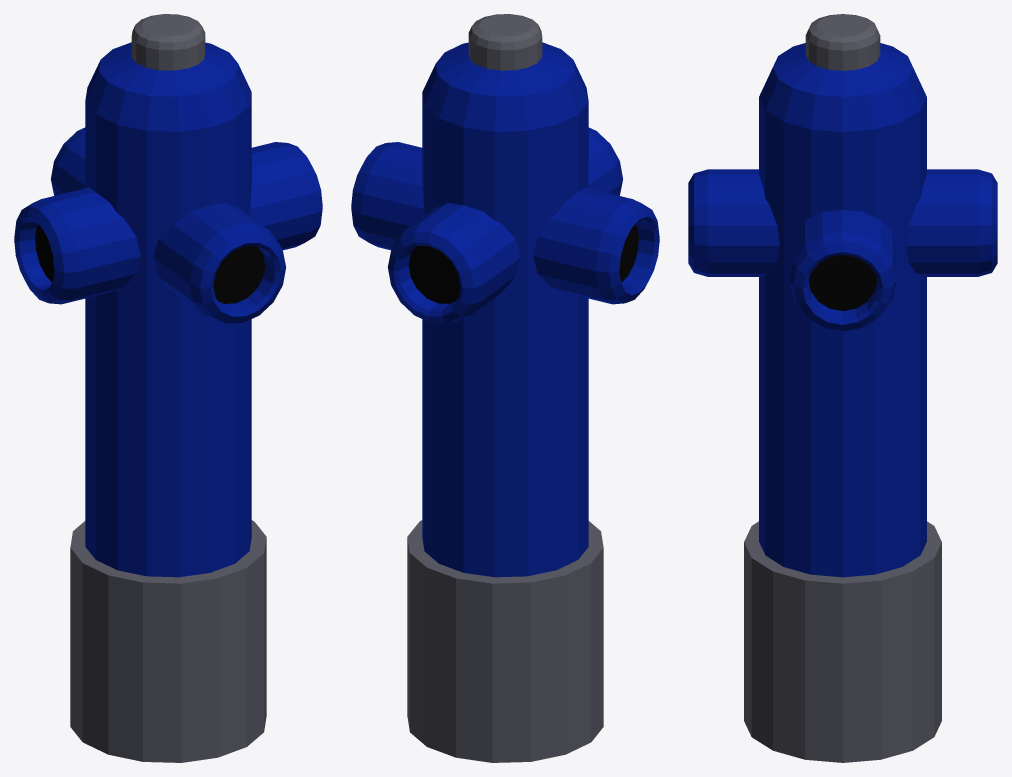
Rendered from Flooder.fbx.
3 renders of one model, left to right at view 1: azimuth 30°, elevation 25°; view 2: azimuth 150°, elevation 25°; view 3: azimuth 270°, elevation 25°, orthographic.
Visible parts, largest first — view 1: Cylinder.002; view 2: Cylinder.002; view 3: Cylinder.002.
Boxes of the visible parts, x1,y1,x2,y2 form: Cylinder.002: (14,14,322,762); Cylinder.002: (351,14,659,762); Cylinder.002: (688,14,997,762).
Size of the model in its own units: 57.83 by 143 by 57.83.
